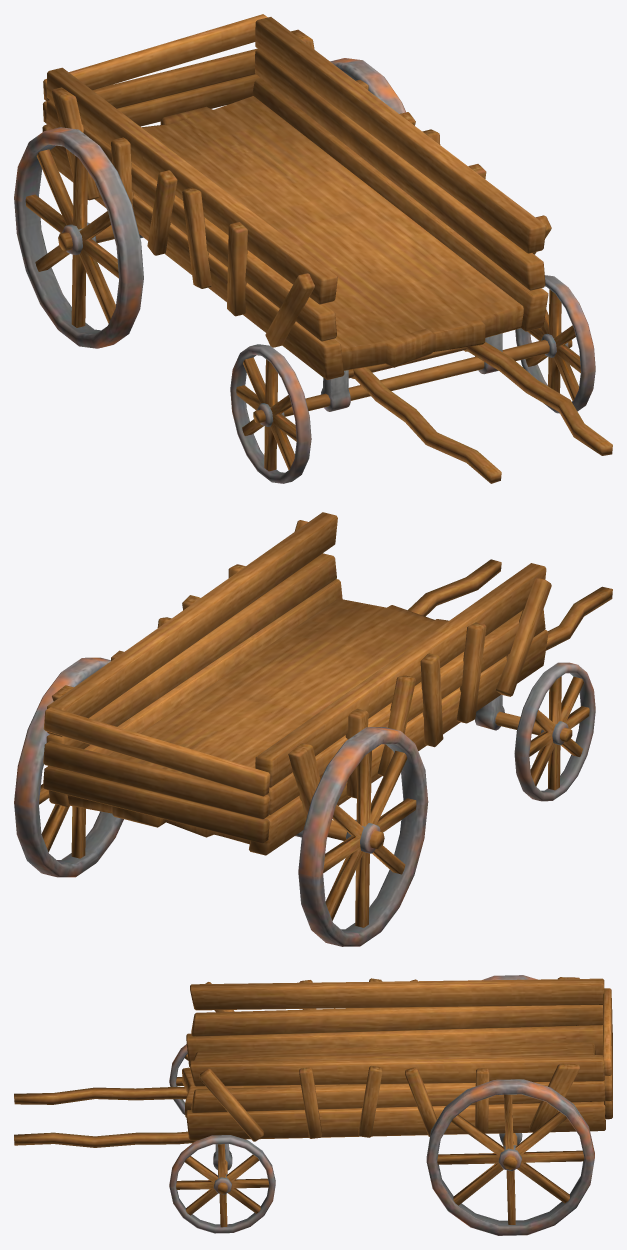
The model's file is SM_Stylized_Wagon.glb.
The picture shows the model from 3 angles, top to bottom: view 1: azimuth 30°, elevation 25°; view 2: azimuth 150°, elevation 25°; view 3: azimuth 270°, elevation 25°; orthographic projection. The views are drawn at different scales.
Parts seen in each view (by area): view 1: SM_Stylized_Wagon; view 2: SM_Stylized_Wagon; view 3: SM_Stylized_Wagon.
Part boxes in pixels (left/top/right/bottom): SM_Stylized_Wagon: left=14, top=14, right=612, bottom=483; SM_Stylized_Wagon: left=14, top=512, right=612, bottom=946; SM_Stylized_Wagon: left=14, top=975, right=612, bottom=1235.
Size of the model in its own units: 1.98 by 1.28 by 4.3.
1 material, 1 textured.
